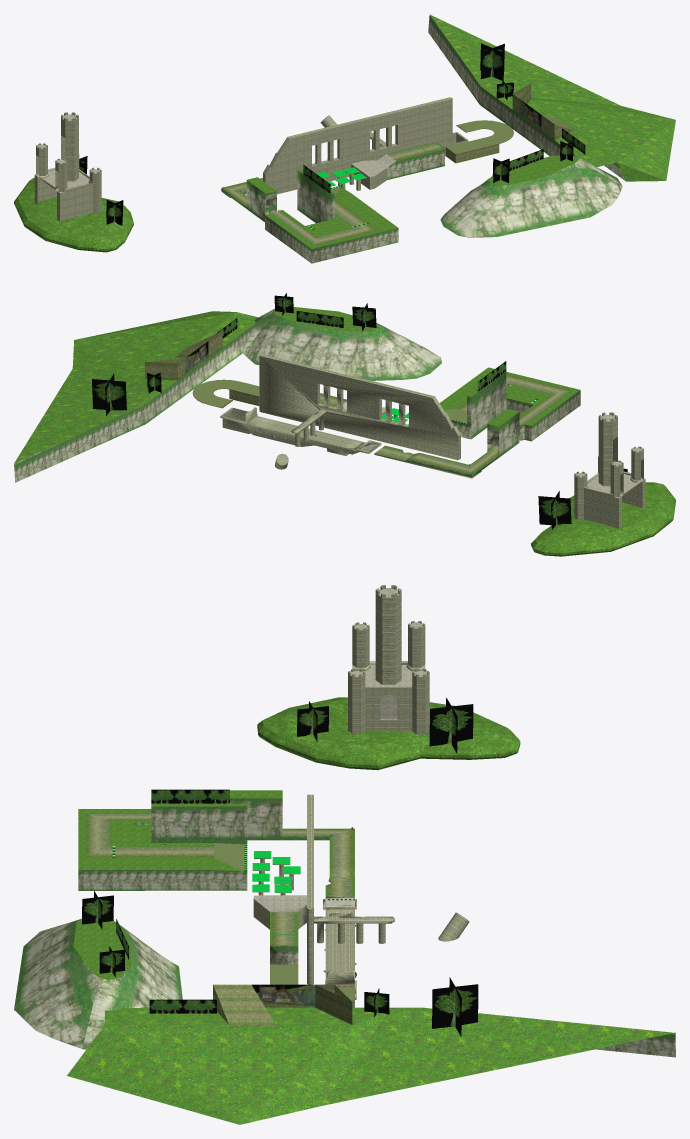
3 renders of one model, top to bottom at view 1: azimuth 30°, elevation 25°; view 2: azimuth 150°, elevation 25°; view 3: azimuth 270°, elevation 25°, orthographic. The views are drawn at different scales.
Visible parts, largest first — view 1: polygon5, polygon1, polygon10, polygon21, polygon15, polygon8, polygon3, polygon26, polygon13, polygon7, polygon11, polygon24; view 2: polygon5, polygon11, polygon10, polygon21, polygon1, polygon8, polygon15, polygon3, polygon26, polygon7, polygon14, polygon4 (+2 smaller); view 3: polygon10, polygon21, polygon5, polygon1, polygon4, polygon8, polygon11, polygon15, polygon3, polygon7, polygon14, polygon13 (+3 smaller).
Part boxes in pixels (x1=…): polygon5: x1=221, y1=15, x2=625, y2=263; polygon1: x1=34, y1=97, x2=468, y2=229; polygon10: x1=430, y1=14, x2=675, y2=181; polygon21: x1=14, y1=142, x2=578, y2=252; polygon15: x1=222, y1=142, x2=443, y2=246; polygon8: x1=79, y1=43, x2=573, y2=225; polygon3: x1=445, y1=83, x2=573, y2=163; polygon26: x1=330, y1=120, x2=513, y2=196; polygon13: x1=35, y1=114, x2=396, y2=192; polygon7: x1=303, y1=128, x2=585, y2=193; polygon11: x1=39, y1=131, x2=445, y2=197; polygon24: x1=519, y1=99, x2=541, y2=130; polygon5: x1=14, y1=309, x2=580, y2=482; polygon11: x1=220, y1=355, x2=640, y2=494; polygon10: x1=14, y1=311, x2=257, y2=463; polygon21: x1=274, y1=307, x2=675, y2=556; polygon1: x1=220, y1=354, x2=645, y2=528; polygon8: x1=92, y1=293, x2=627, y2=529; polygon15: x1=320, y1=374, x2=572, y2=474; polygon3: x1=145, y1=330, x2=259, y2=407; polygon26: x1=192, y1=379, x2=456, y2=413; polygon7: x1=216, y1=311, x2=506, y2=391; polygon14: x1=374, y1=406, x2=498, y2=467; polygon4: x1=405, y1=398, x2=533, y2=477; polygon10: x1=67, y1=1007, x2=674, y2=1124; polygon21: x1=73, y1=697, x2=520, y2=979; polygon5: x1=14, y1=919, x2=675, y2=1057; polygon1: x1=253, y1=585, x2=469, y2=1007; polygon4: x1=78, y1=798, x2=329, y2=890; polygon8: x1=82, y1=697, x2=478, y2=1036; polygon11: x1=134, y1=661, x2=425, y2=993; polygon15: x1=84, y1=813, x2=354, y2=945; polygon3: x1=213, y1=984, x2=352, y2=1025; polygon7: x1=116, y1=789, x2=229, y2=1013; polygon14: x1=165, y1=829, x2=354, y2=896; polygon13: x1=253, y1=588, x2=427, y2=912.
Size of the model in its own units: 242553 by 42953 by 161462.
19 materials, 19 textured.
